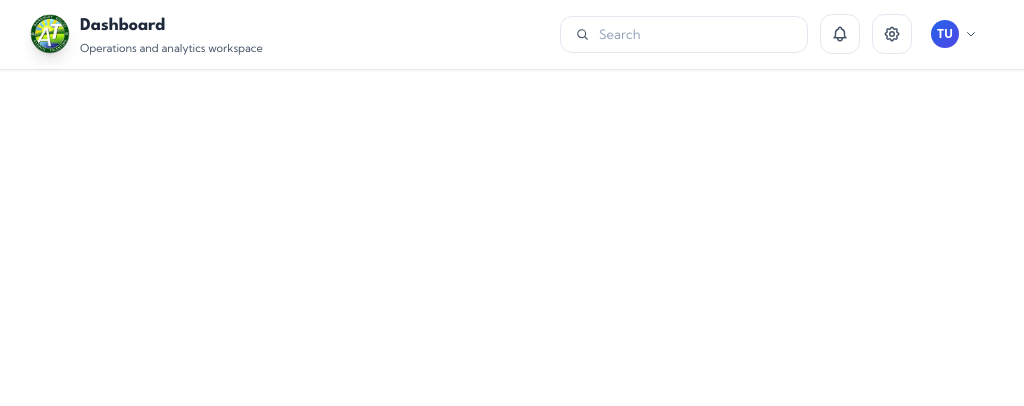
Test: Header › notifications panel › opens the notification dropdown when bell is clicked
Click the button titled "Notifications" at (840, 34), box [820,14,860,54]
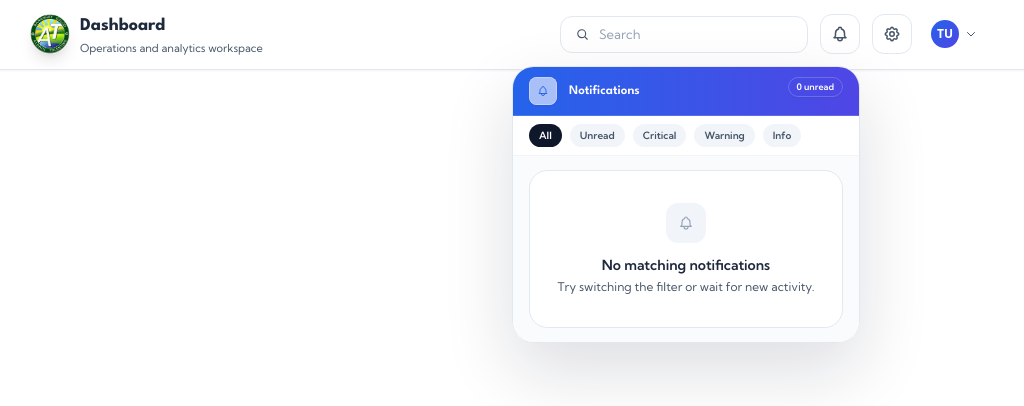
expect the heading "Notifications" is shown: met, box [569,82,640,101]
